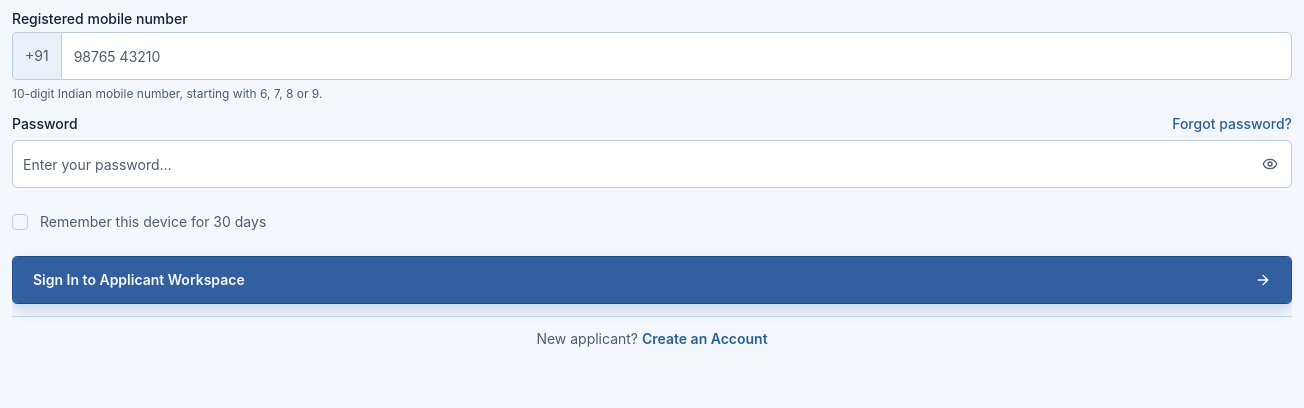
Test: authentication workflow › validates login locally and preserves entered values
Type "5876543210" into the field labelled "Registered mobile number" at x=676, y=56, box [61,32,1292,80]
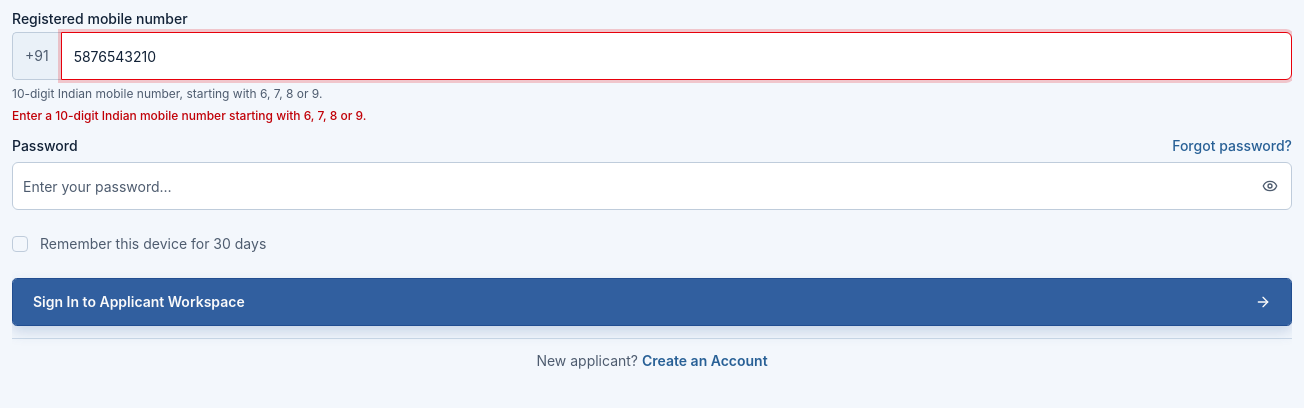
Click the button "Sign In to Applicant Workspace" at x=139, y=302, box [12,278,1292,326]
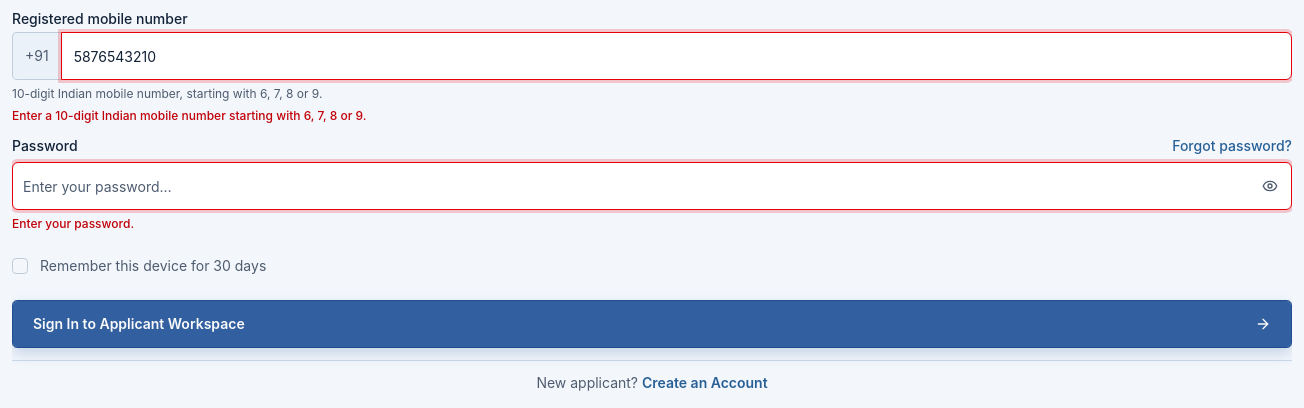
Check: the text "Enter a 10-digit Indian mobile number starting with 6, 7, 8 or 9." is shown, box [12,108,366,123]
Check: the text "Enter your password." is shown, box [12,216,134,231]
